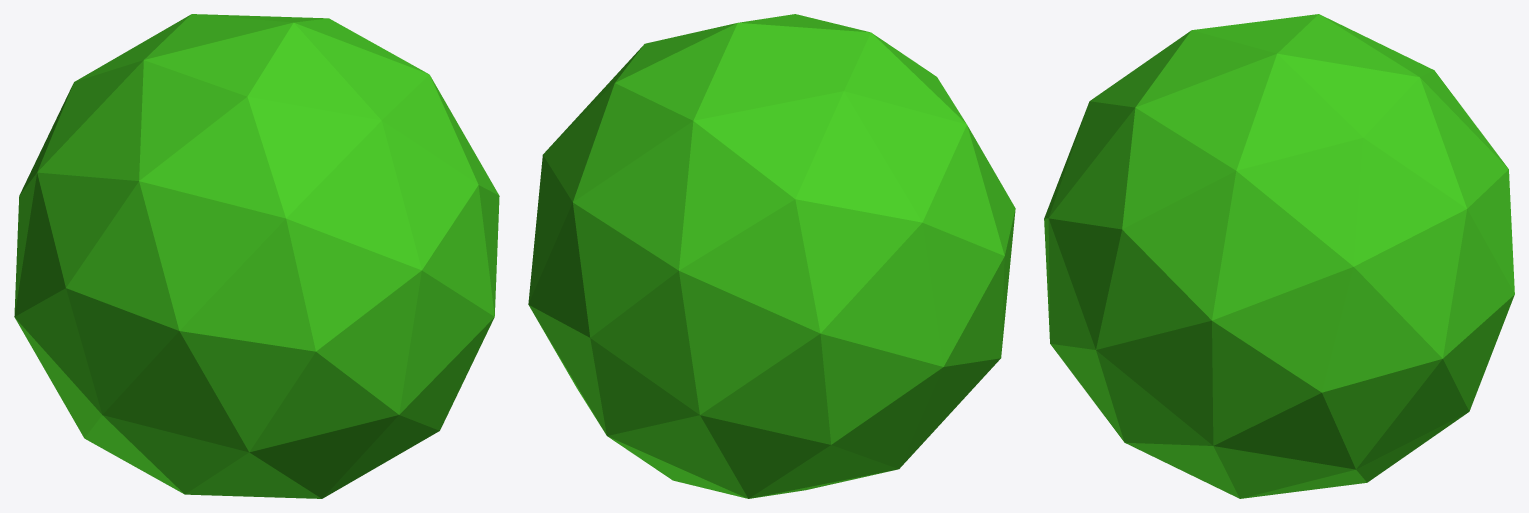
Rendered from Point.obj.
3 views of the same model, side by side, from view 1: azimuth 30°, elevation 25°; view 2: azimuth 150°, elevation 25°; view 3: azimuth 270°, elevation 25° (orthographic). The views are drawn at different scales.
Visible parts, largest first — view 1: Point_Malus_Buff; view 2: Point_Malus_Buff; view 3: Point_Malus_Buff.
Boxes of the visible parts, <box> form: Point_Malus_Buff: <box>14,14,499,498</box>; Point_Malus_Buff: <box>528,14,1015,498</box>; Point_Malus_Buff: <box>1044,14,1514,498</box>.
Bounding box in the file's own units: 0.6033 × 0.6123 × 0.5946.
